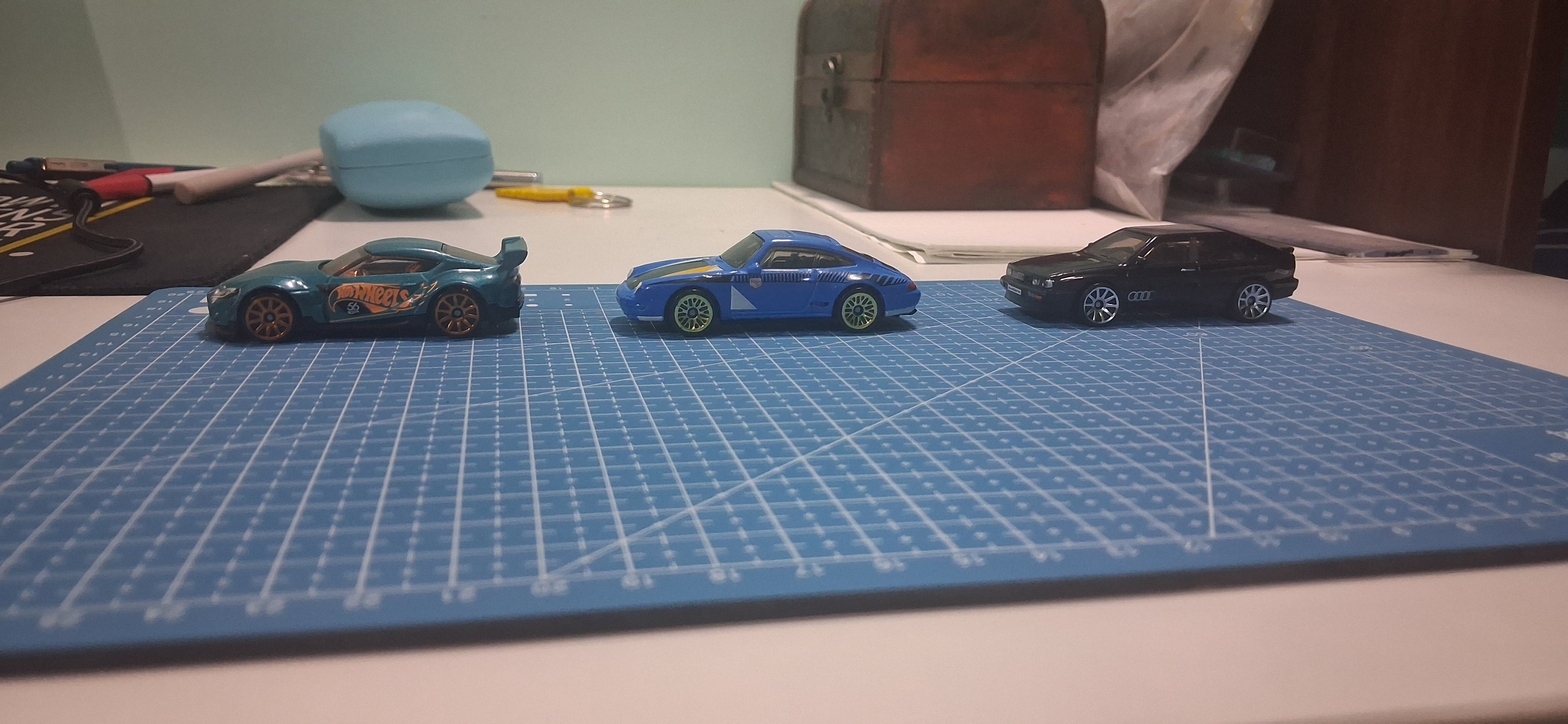Audi_Quattro: (982, 218, 1322, 353)
Porsche_Carrera: (588, 213, 927, 358)
Toyota_GR_Supra: (164, 213, 539, 371)
